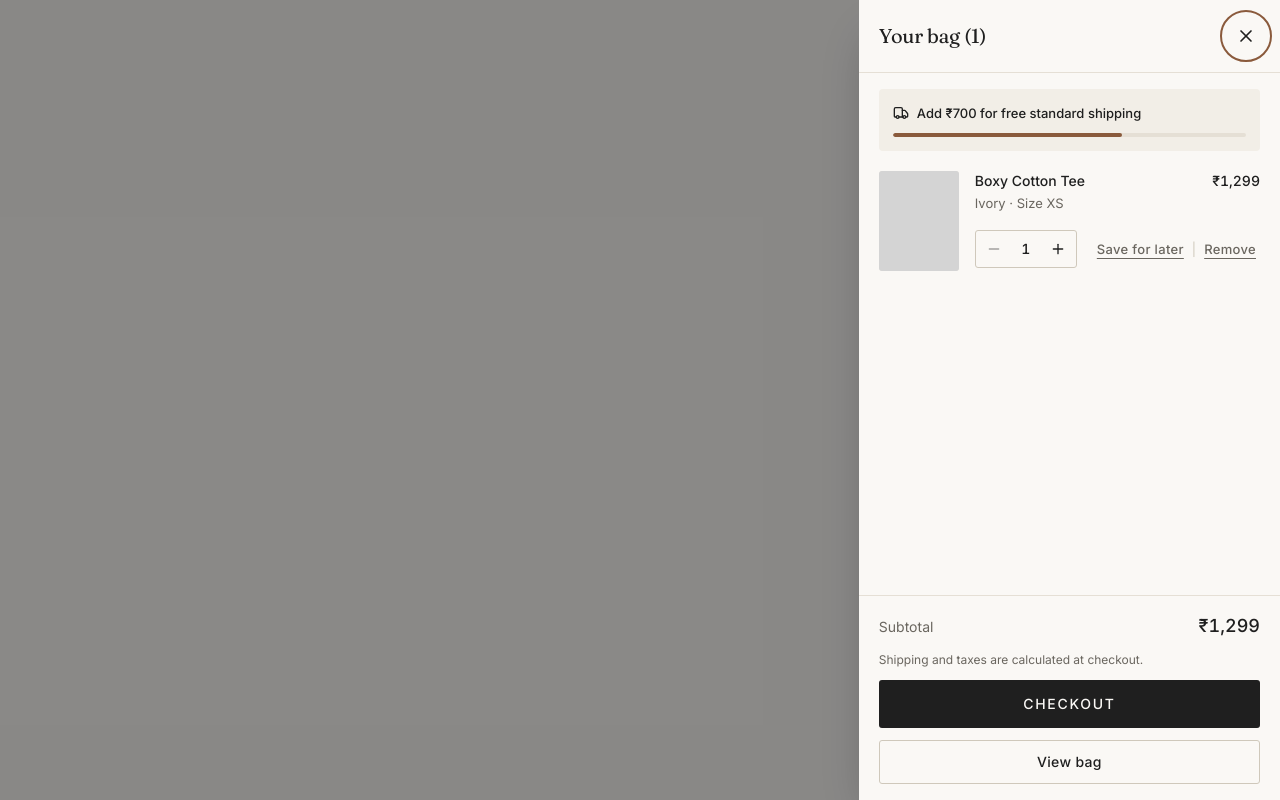
Test: CartDrawer save for later › keeps a saved item visible in the drawer and lets it move back to the bag
The image size is (1280, 800).
Click the button "Save for later": [1140, 249] box [1093,227,1188,271]
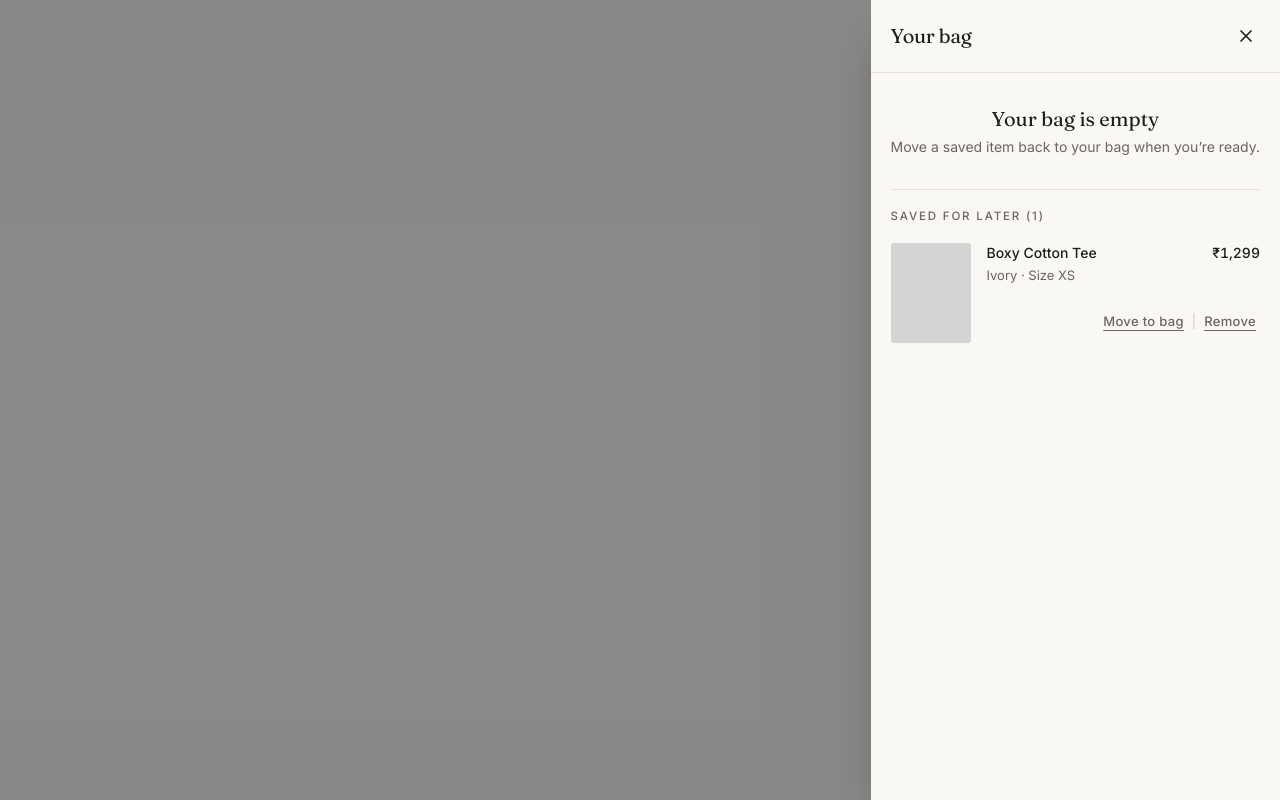
expect the link "Boxy Cotton Tee" is shown: met, box [986,243,1097,263]
expect the heading "Saved for later (1)" is shown: met, box [890,209,1045,223]
Click the button "Move to bag": [1144, 321] box [1099,299,1188,343]
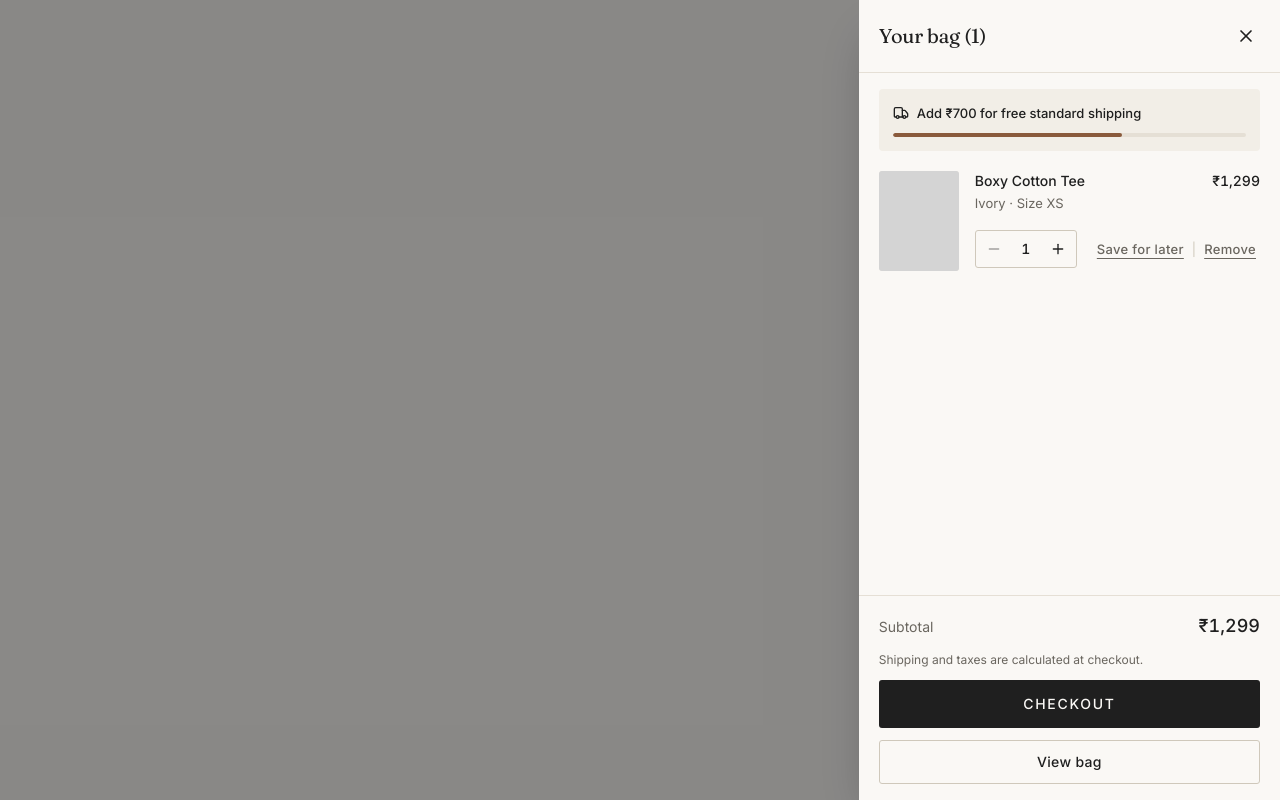
expect the list named "Items in your bag" is shown: met, box [879,151,1260,291]
